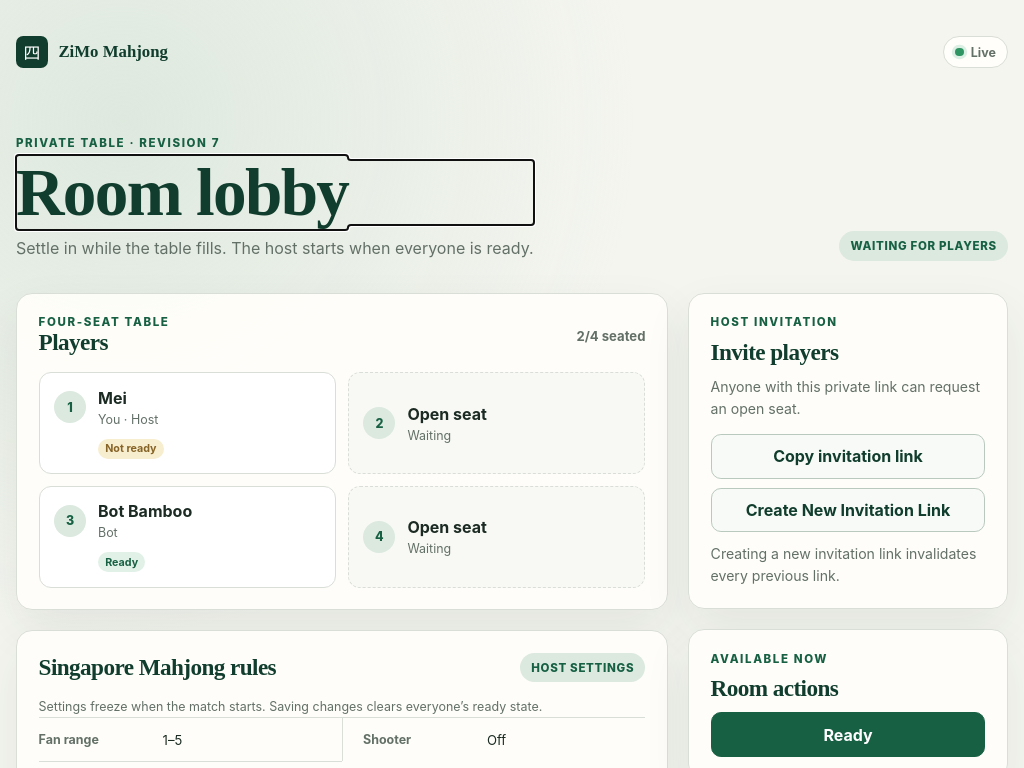
it: room UI › clears credentials on 401 revocation
The width and height of the screenshot is (1024, 768).
Step 1. Click the button "Ready" → (848, 735), box [711,712,985,757]
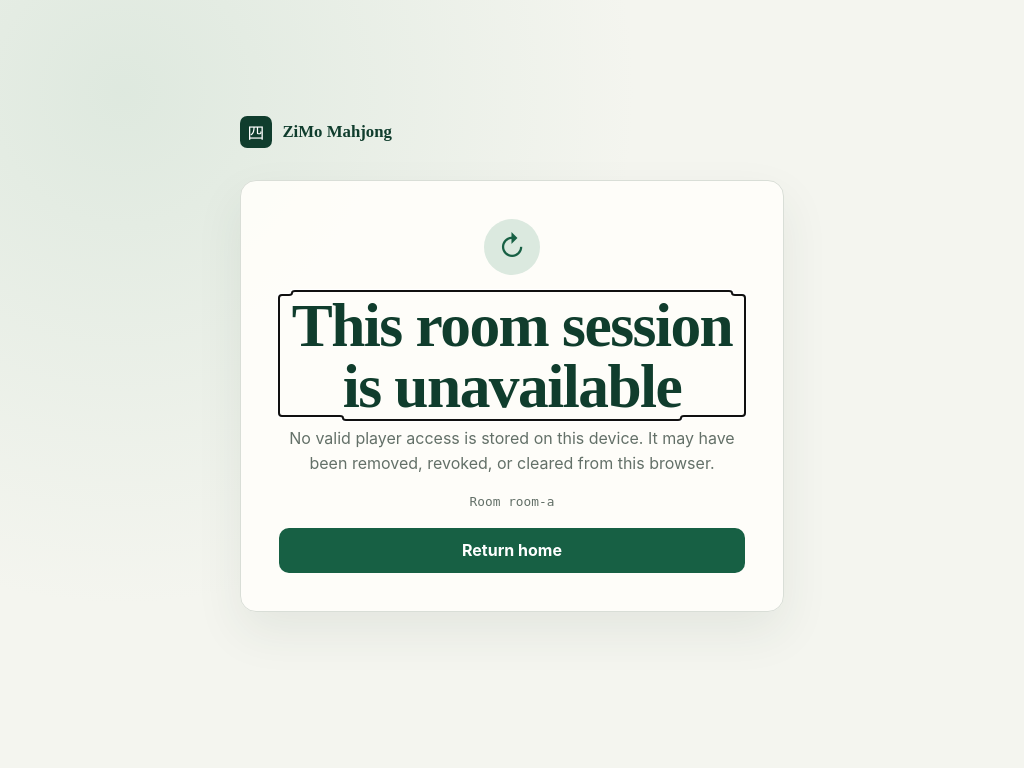
Expected: the heading "This room session is unavailable" is shown, [279,296,745,416]
